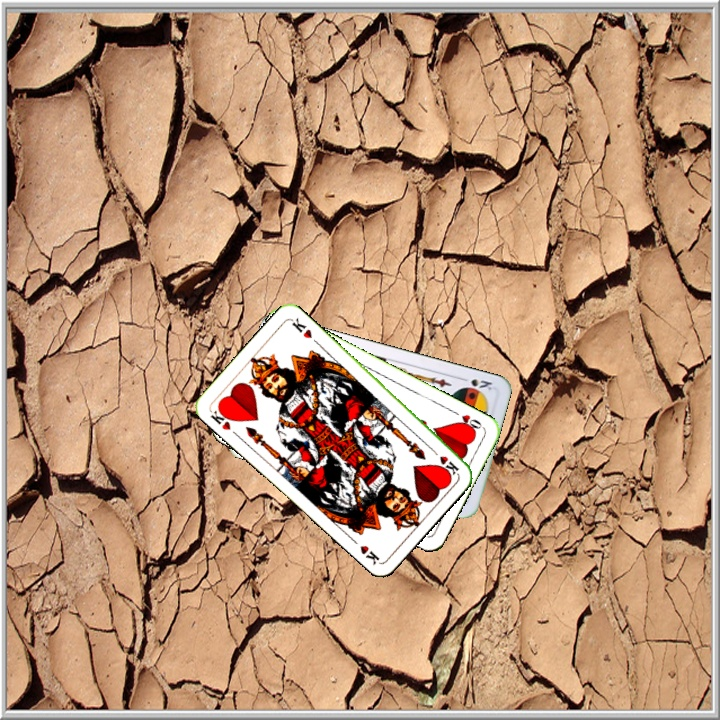HK: (427, 444, 461, 478), (206, 402, 236, 433)
HO: (448, 406, 486, 434)
SK: (456, 373, 495, 393)
